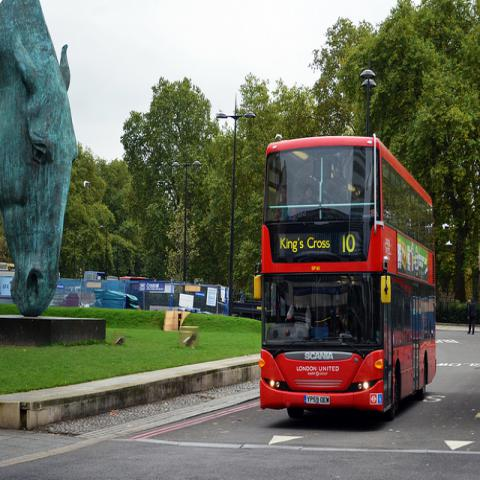bus: (258, 138, 440, 426)
